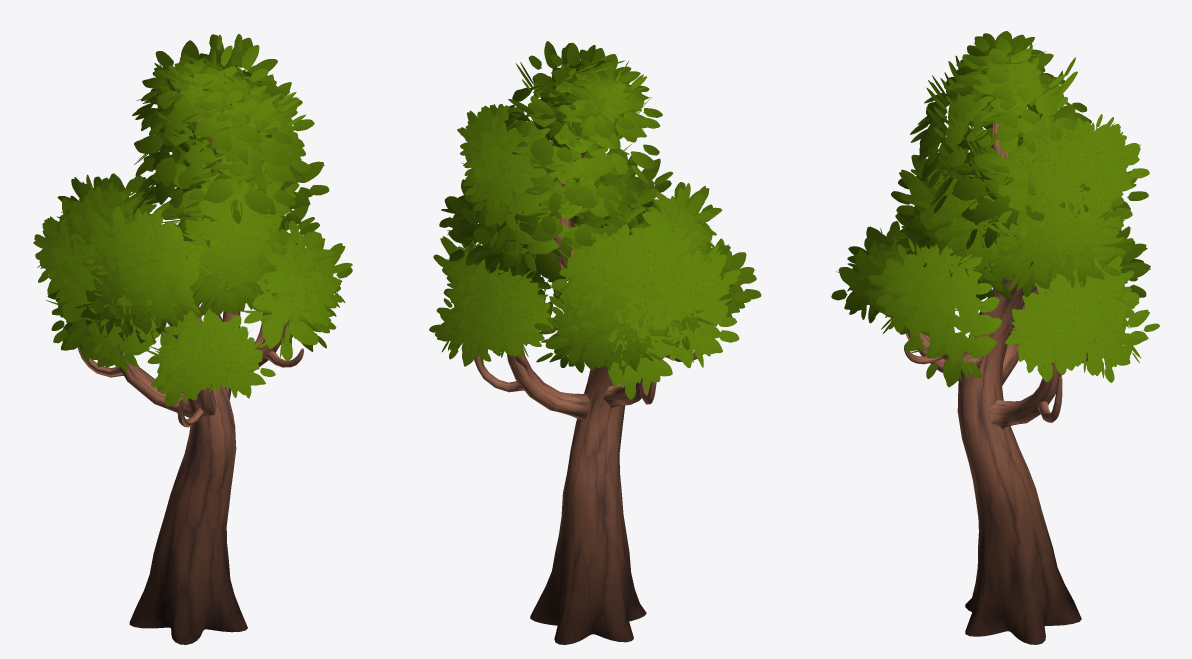
File: CommonTree_2.gltf
The picture shows the model from 3 angles, left to right: view 1: azimuth 30°, elevation 25°; view 2: azimuth 150°, elevation 25°; view 3: azimuth 270°, elevation 25°; orthographic projection. The views are drawn at different scales.
Parts seen in each view (by area): view 1: CommonTree_2; view 2: CommonTree_2; view 3: CommonTree_2.
Boxes of the visible parts, x1,y1,x2,y2 form: CommonTree_2: (33,34,352,644); CommonTree_2: (429,41,761,644); CommonTree_2: (831,31,1159,644).
Bounding box in the file's own units: 4.46 × 7.64 × 4.28.
Materials: 2 (2 with a texture image).
